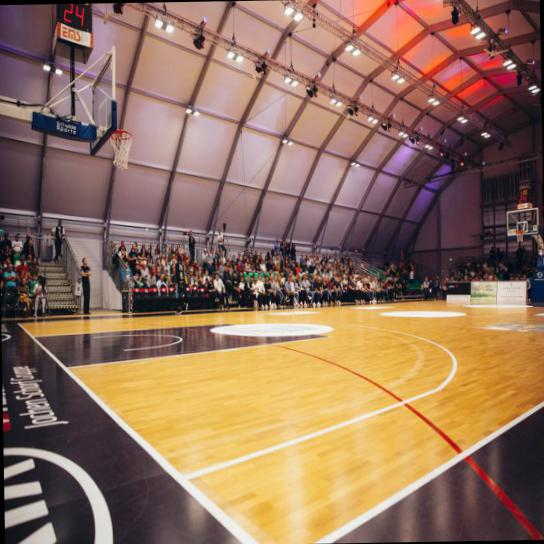basketball-hoop: (109, 126, 133, 170), (514, 228, 524, 242)
